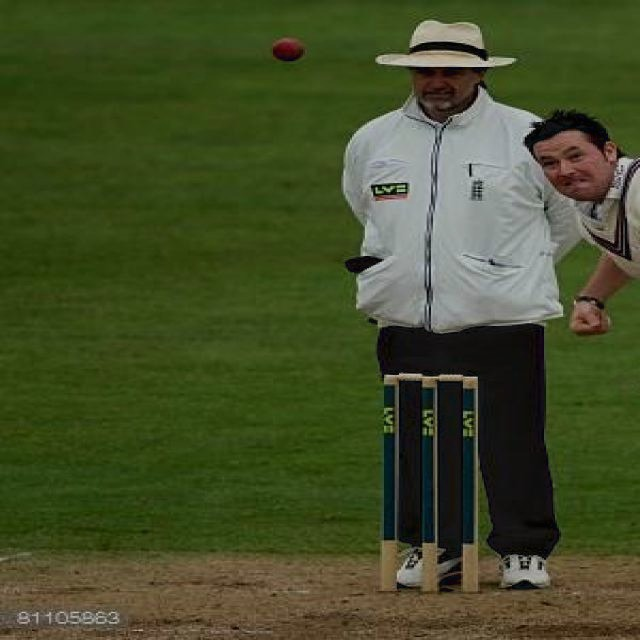No_Action: (323, 10, 577, 598)
